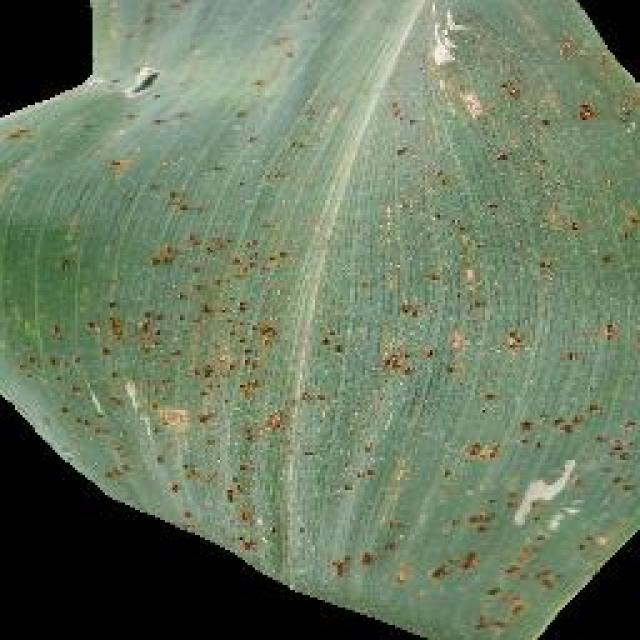Corn Common Rust: (138, 95, 578, 560)
